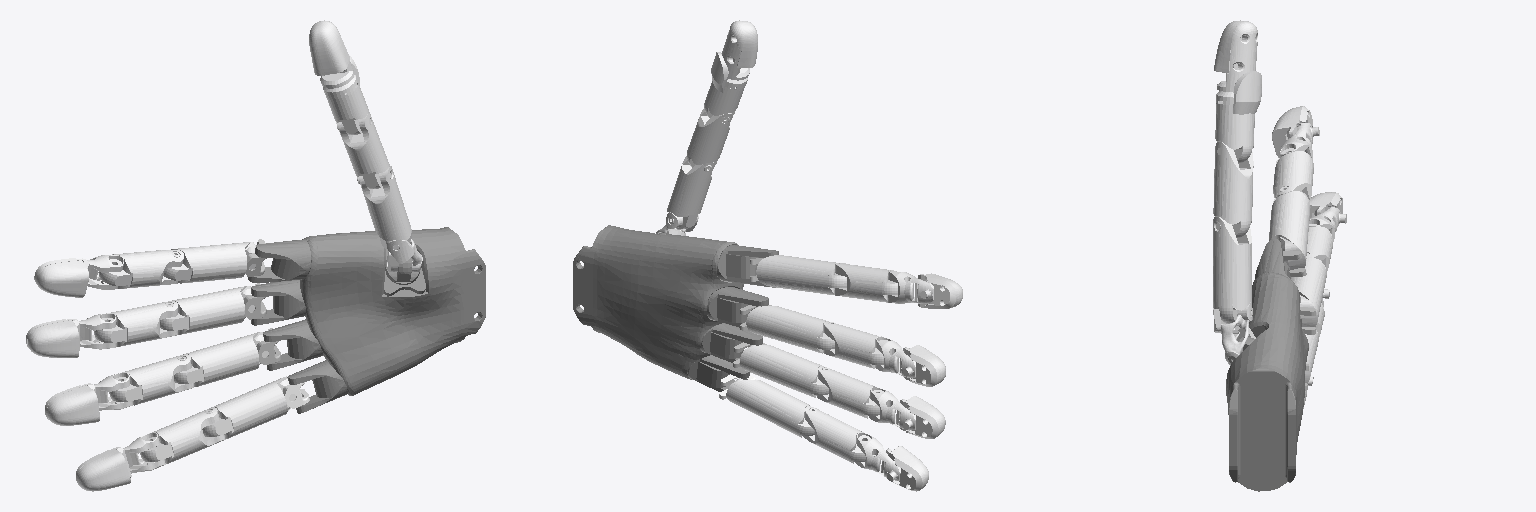
--- What the picture shows (computed from the rendered views, not written in the file) ---
The picture shows the robot from 3 angles, left to right: view 1: azimuth 30°, elevation 25°; view 2: azimuth 150°, elevation 25°; view 3: azimuth 270°, elevation 25°; orthographic projection.
Robot: d5_right_hands_tips — 26 links, 25 joints (20 revolute, 5 fixed); root link base_link; default pose: all joints at 0.
Visible links, largest first — view 1: base_link, PIPMCP_2rd_pinky, PIPMCP_2rd_ring, PIPMCP_2rd_middle, fingertip_thumb, PIPMCP_2rd_index, DIP_pinky, CMC_2rd, DIP_ring, DIP_middle, DIP_index, MCP_thumb (+10 smaller); view 2: base_link, PIPMCP_2rd_pinky, PIPMCP_2rd_ring, PIPMCP_2rd_index, PIPMCP_2rd_middle, fingertip_thumb, tipmount_ring, tipmount_index, CMC_2rd, DIP_pinky, tipmount_pinky, DIP_ring (+5 smaller); view 3: base_link, fingertip_thumb, CMC_2rd, MCP_thumb, PIPMCP_2rd_index, IP_thumb, DIP_index, PIPMCP_2rd_middle, CMC_joint, tipmount_index, tipmount_middle, DIP_middle (+1 smaller).
Boxes of the visible links, x1,y1,x2,y2 form: base_link: (248,227,485,413); PIPMCP_2rd_pinky: (202,376,295,438); PIPMCP_2rd_ring: (174,332,268,386); PIPMCP_2rd_middle: (160,286,254,334); fingertip_thumb: (309,20,359,98); PIPMCP_2rd_index: (163,242,255,283); DIP_pinky: (140,407,225,463); CMC_2rd: (358,166,411,249); DIP_ring: (109,354,193,405); DIP_middle: (94,301,177,346); DIP_index: (98,250,183,288); MCP_thumb: (336,112,390,188); base_link: (573,225,778,391); PIPMCP_2rd_pinky: (726,378,814,437); PIPMCP_2rd_ring: (740,345,828,397); PIPMCP_2rd_index: (756,255,846,294); PIPMCP_2rd_middle: (746,306,834,353); fingertip_thumb: (711,20,757,92); tipmount_ring: (869,387,940,438); tipmount_index: (888,270,958,308); CMC_2rd: (667,156,714,228); DIP_pinky: (803,406,865,463); tipmount_pinky: (855,432,924,491); DIP_ring: (817,366,879,418); base_link: (1226,239,1308,491); fingertip_thumb: (1214,20,1261,114); CMC_2rd: (1213,217,1252,323); MCP_thumb: (1213,142,1253,238); PIPMCP_2rd_index: (1269,191,1310,269); IP_thumb: (1215,102,1254,163); DIP_index: (1273,151,1313,200); PIPMCP_2rd_middle: (1289,258,1326,326); CMC_joint: (1213,302,1255,365); tipmount_index: (1279,106,1319,159); tipmount_middle: (1309,192,1346,241); DIP_middle: (1306,226,1332,270).
Bounding box of the posed robot: 0.205 × 0.0518 × 0.2039 m (x, y, z).
Meshes: 26 distinct files referenced, 26 mesh visuals loaded (26 binary STL).

The robot description file, URDF, robot "d5_right_hands_tips":
<?xml version="1.0" encoding="utf-8"?>
<!-- This URDF was automatically created by SolidWorks to URDF Exporter! Originally created by Stephen Brawner ([email redacted]) 
     Commit Version: 1.6.0-4-g7f85cfe  Build Version: 1.6.7995.38578
     For more information, please see http://wiki.ros.org/sw_urdf_exporter -->
<robot
  name="d5_right_hands_tips">
  <link
    name="base_link">
    <inertial>
      <origin
        xyz="-0.0362817338745931 0.00305496700238872 0.00012652308364822"
        rpy="0 0 0" />
      <mass
        value="0.100729456637226" />
      <inertia
        ixx="3.4903252403848E-05"
        ixy="3.96057729338568E-06"
        ixz="3.90665622578165E-06"
        iyy="8.05762092877759E-05"
        iyz="-1.48869914829573E-06"
        izz="5.43177642836552E-05" />
    </inertial>
    <visual>
      <origin
        xyz="0 0 0"
        rpy="0 0 0" />
      <geometry>
        <mesh
          filename="meshes/base_link.STL" />
      </geometry>
      <material
        name="">
        <color
          rgba="0.627450980392157 0.627450980392157 0.627450980392157 1" />
      </material>
    </visual>
    <collision>
      <origin
        xyz="0 0 0"
        rpy="0 0 0" />
      <geometry>
        <mesh
          filename="meshes/base_link.STL" />
      </geometry>
    </collision>
  </link>
  <link
    name="CMC_joint">
    <inertial>
      <origin
        xyz="-0.00771367823748027 0.00183231505544754 -0.00219639202089756"
        rpy="0 0 0" />
      <mass
        value="0.00125785735605691" />
      <inertia
        ixx="3.83658914941671E-08"
        ixy="2.36460489065714E-09"
        ixz="-1.03477166087723E-08"
        iyy="6.98856638200257E-08"
        iyz="4.39609465963975E-09"
        izz="6.35623703634476E-08" />
    </inertial>
    <visual>
      <origin
        xyz="0 0 0"
        rpy="0 0 0" />
      <geometry>
        <mesh
          filename="meshes/CMC_joint.STL" />
      </geometry>
      <material
        name="">
        <color
          rgba="0.96078431372549 0.96078431372549 0.964705882352941 1" />
      </material>
    </visual>
    <collision>
      <origin
        xyz="0 0 0"
        rpy="0 0 0" />
      <geometry>
        <mesh
          filename="meshes/CMC_joint.STL" />
      </geometry>
    </collision>
  </link>
  <joint
    name="F1J1"
    type="revolute">
    <origin
      xyz="-0.0287119473549832 -0.00852444239874984 0.0205754013367985"
      rpy="1.6609493542778 0.89646815577158 1.20388201170241" />
    <parent
      link="base_link" />
    <child
      link="CMC_joint" />
    <axis
      xyz="0 0 -1" />
    <limit
      lower="-1.83"
      upper="1"
      effort="1000"
      velocity="1000" />
  </joint>
  <link
    name="CMC_2rd">
    <inertial>
      <origin
        xyz="-0.0134830077074653 0.000922867497252785 0.00666084414044431"
        rpy="0 0 0" />
      <mass
        value="0.00526815598427129" />
      <inertia
        ixx="1.98041865895015E-07"
        ixy="-2.04696420847067E-09"
        ixz="1.36339106542372E-07"
        iyy="5.57505650011452E-07"
        iyz="5.09367453567155E-09"
        izz="4.90755198783683E-07" />
    </inertial>
    <visual>
      <origin
        xyz="0 0 0"
        rpy="0 0 0" />
      <geometry>
        <mesh
          filename="meshes/CMC_2rd.STL" />
      </geometry>
      <material
        name="">
        <color
          rgba="0.96078431372549 0.96078431372549 0.964705882352941 1" />
      </material>
    </visual>
    <collision>
      <origin
        xyz="0 0 0"
        rpy="0 0 0" />
      <geometry>
        <mesh
          filename="meshes/CMC_2rd.STL" />
      </geometry>
    </collision>
  </link>
  <joint
    name="F1J2"
    type="revolute">
    <origin
      xyz="-0.0145598308576187 0.00383358648575016 -0.00576550871894678"
      rpy="-0.0914928971126661 -0.705739837158521 -0.493269803017064" />
    <parent
      link="CMC_joint" />
    <child
      link="CMC_2rd" />
    <axis
      xyz="0 1 0" />
    <limit
      lower="-0.47"
      upper="1.73"
      effort="1000"
      velocity="1000" />
  </joint>
  <link
    name="MCP_thumb">
    <inertial>
      <origin
        xyz="-0.0127840160194441 0.00137060752652221 -1.60835271583726E-05"
        rpy="0 0 0" />
      <mass
        value="0.00451776533982589" />
      <inertia
        ixx="1.22993633397689E-07"
        ixy="-9.34843505762833E-10"
        ixz="3.60535709302834E-10"
        iyy="3.89429239539063E-07"
        iyz="-1.24481110371496E-11"
        izz="3.80198753757361E-07" />
    </inertial>
    <visual>
      <origin
        xyz="0 0 0"
        rpy="0 0 0" />
      <geometry>
        <mesh
          filename="meshes/MCP_thumb.STL" />
      </geometry>
      <material
        name="">
        <color
          rgba="0.96078431372549 0.96078431372549 0.964705882352941 1" />
      </material>
    </visual>
    <collision>
      <origin
        xyz="0 0 0"
        rpy="0 0 0" />
      <geometry>
        <mesh
          filename="meshes/MCP_thumb.STL" />
      </geometry>
    </collision>
  </link>
  <joint
    name="F1J3"
    type="revolute">
    <origin
      xyz="-0.030766 -5.5784E-05 0.012586"
      rpy="0.33819 0.32765 7.0074E-05" />
    <parent
      link="CMC_2rd" />
    <child
      link="MCP_thumb" />
    <axis
      xyz="0 0 -1" />
    <limit
      lower="-1.83"
      upper="0.52"
      effort="1000"
      velocity="1000" />
  </joint>
  <link
    name="IP_thumb">
    <inertial>
      <origin
        xyz="-0.0087334 0.0011845 0.00023663"
        rpy="0 0 0" />
      <mass
        value="0.0032446" />
      <inertia
        ixx="8.4532E-08"
        ixy="-2.2214E-09"
        ixz="3.7893E-10"
        iyy="1.5393E-07"
        iyz="-5.1545E-11"
        izz="1.5756E-07" />
    </inertial>
    <visual>
      <origin
        xyz="0 0 0"
        rpy="0 0 0" />
      <geometry>
        <mesh
          filename="meshes/IP_thumb.STL" />
      </geometry>
      <material
        name="">
        <color
          rgba="0.96078 0.96078 0.96471 1" />
      </material>
    </visual>
    <collision>
      <origin
        xyz="0 0 0"
        rpy="0 0 0" />
      <geometry>
        <mesh
          filename="meshes/IP_thumb.STL" />
      </geometry>
    </collision>
  </link>
  <joint
    name="F1J4"
    type="revolute">
    <origin
      xyz="-0.0289946553564469 0.000556723643987157 -0.000250000742295356"
      rpy="0 0 -0.0191986217719369" />
    <parent
      link="MCP_thumb" />
    <child
      link="IP_thumb" />
    <axis
      xyz="0 0 -1" />
    <limit
      lower="-1.74"
      upper="0.61"
      effort="1000"
      velocity="1000" />
  </joint>
  <link
    name="fingertip_thumb">
    <inertial>
      <origin
        xyz="0.0066049 0.00028788 1.5879E-06"
        rpy="0 0 0" />
      <mass
        value="0.0014852" />
      <inertia
        ixx="3.7035E-08"
        ixy="1.4632E-09"
        ixz="-1.0485E-12"
        iyy="2.9544E-08"
        iyz="-1.5545E-12"
        izz="2.9178E-08" />
    </inertial>
    <visual>
      <origin
        xyz="0 0 0"
        rpy="0 0 0" />
      <geometry>
        <mesh
          filename="meshes/Thumb_fingertip.STL" />
      </geometry>
      <material
        name="">
        <color
          rgba="0.96078 0.96078 0.96471 1" />
      </material>
    </visual>
    <collision>
      <origin
        xyz="0 0 0"
        rpy="0 0 0" />
      <geometry>
        <mesh
          filename="meshes/Thumb_fingertip.STL" />
      </geometry>
    </collision>
  </link>
  <joint
    name="thumb_fingertip_fixed"
    type="fixed">
    <origin
      xyz="-0.0504300002212205 0.00512000183074177 0.000250000081465665"
      rpy="0 3.141592 1.578" />
    <parent
      link="IP_thumb" />
    <child
      link="fingertip_thumb" />
    <axis
      xyz="0 0 0" />
  </joint>
  <link
    name="MCP_joint_index">
    <inertial>
      <origin
        xyz="-0.000319915345639632 0.0013292473539805 -6.02704366969853E-09"
        rpy="0 0 0" />
      <mass
        value="0.000379035353628356" />
      <inertia
        ixx="9.06832631392797E-09"
        ixy="-2.97882532906538E-09"
        ixz="4.85702461963548E-14"
        iyy="9.76761312855595E-09"
        iyz="3.96398496940897E-14"
        izz="8.49904595332904E-09" />
    </inertial>
    <visual>
      <origin
        xyz="0 0 0"
        rpy="0 0 0" />
      <geometry>
        <mesh
          filename="meshes/MCP_joint_index.STL" />
      </geometry>
      <material
        name="">
        <color
          rgba="0.796078431372549 0.796078431372549 0.796078431372549 1" />
      </material>
    </visual>
    <collision>
      <origin
        xyz="0 0 0"
        rpy="0 0 0" />
      <geometry>
        <mesh
          filename="meshes/MCP_joint_index.STL" />
      </geometry>
    </collision>
  </link>
  <joint
    name="F2J1"
    type="revolute">
    <origin
      xyz="-0.0919165306699503 0.00587008921482919 0.0294338632809185"
      rpy="0.219360935022254 0.123470682741789 -0.0454105657545556" />
    <parent
      link="base_link" />
    <child
      link="MCP_joint_index" />
    <axis
      xyz="0 0 1" />
    <limit
      lower="-0.52"
      upper="1.83"
      effort="1000"
      velocity="1000" />
  </joint>
  <link
    name="PIPMCP_2rd_index">
    <inertial>
      <origin
        xyz="-0.0174056343115065 0.00607488397988235 7.02482116618497E-06"
        rpy="0 0 0" />
      <mass
        value="0.00657987209047657" />
      <inertia
        ixx="1.7465205113407E-07"
        ixy="-3.15693138574795E-08"
        ixz="2.88424518328892E-10"
        iyy="9.45057722967349E-07"
        iyz="1.65534905120413E-11"
        izz="9.50286012403269E-07" />
    </inertial>
    <visual>
      <origin
        xyz="0 0 0"
        rpy="0 0 0" />
      <geometry>
        <mesh
          filename="meshes/PIPMCP_2rd_index.STL" />
      </geometry>
      <material
        name="">
        <color
          rgba="0.96078431372549 0.96078431372549 0.964705882352941 1" />
      </material>
    </visual>
    <collision>
      <origin
        xyz="0 0 0"
        rpy="0 0 0" />
      <geometry>
        <mesh
          filename="meshes/PIPMCP_2rd_index.STL" />
      </geometry>
    </collision>
  </link>
  <joint
    name="F2J2"
    type="revolute">
    <origin
      xyz="-0.00400000572579078 -0.00220000016539656 0"
      rpy="0 0 0" />
    <parent
      link="MCP_joint_index" />
    <child
      link="PIPMCP_2rd_index" />
    <axis
      xyz="0 -1 0" />
    <limit
      lower="-0.52"
      upper="0.52"
      effort="1000"
      velocity="1000" />
  </joint>
  <link
    name="DIP_index">
    <inertial>
      <origin
        xyz="-0.015509 0.0011228 4.7032E-06"
        rpy="0 0 0" />
      <mass
        value="0.0045089" />
      <inertia
        ixx="1.2298E-07"
        ixy="9.5176E-09"
        ixz="-3.4196E-10"
        iyy="3.9711E-07"
        iyz="4.8839E-12"
        izz="3.8791E-07" />
    </inertial>
    <visual>
      <origin
        xyz="0 0 0"
        rpy="0 0 0" />
      <geometry>
        <mesh
          filename="meshes/DIP_index.STL" />
      </geometry>
      <material
        name="">
        <color
          rgba="0.96078 0.96078 0.96471 1" />
      </material>
    </visual>
    <collision>
      <origin
        xyz="0 0 0"
        rpy="0 0 0" />
      <geometry>
        <mesh
          filename="meshes/DIP_index.STL" />
      </geometry>
    </collision>
  </link>
  <joint
    name="F2J3"
    type="revolute">
    <origin
      xyz="-0.0366176824738114 0.00460000000550533 1.55808514892761E-05"
      rpy="0 0.000433200557103518 0" />
    <parent
      link="PIPMCP_2rd_index" />
    <child
      link="DIP_index" />
    <axis
      xyz="0 0 1" />
    <limit
      lower="-0.52"
      upper="1.83"
      effort="1000"
      velocity="1000" />
  </joint>
  <link
    name="tipmount_index">
    <inertial>
      <origin
        xyz="-0.00535172524642188 0.00089436496945188 1.70711126226131E-05"
        rpy="0 0 0" />
      <mass
        value="0.00137453055479477" />
      <inertia
        ixx="4.05616296493333E-08"
        ixy="1.59318598079109E-09"
        ixz="-8.52615637488302E-11"
        iyy="4.97882764363257E-08"
        iyz="-8.94156273384709E-12"
        izz="3.5113134946145E-08" />
    </inertial>
    <visual>
      <origin
        xyz="0 0 0"
        rpy="0 0 1.578" />
      <geometry>
        <mesh
          filename="meshes/index_tipmount.STL" />
      </geometry>
      <material
        name="">
        <color
          rgba="0.96078431372549 0.96078431372549 0.964705882352941 1" />
      </material>
    </visual>
    <collision>
      <origin
        xyz="0 0 0"
        rpy="0 0 1.578" />
      <geometry>
        <mesh
          filename="meshes/index_tipmount.STL" />
      </geometry>
    </collision>
  </link>
  <joint
    name="F2J4"
    type="revolute">
    <origin
      xyz="-0.0290000000150093 0 0"
      rpy="0.000268594994177152 0 0" />
    <parent
      link="DIP_index" />
    <child
      link="tipmount_index" />
    <axis
      xyz="0 0 1" />
    <limit
      lower="-0.52"
      upper="1.74"
      effort="1000"
      velocity="1000" />
  </joint>
  <link
    name="fingertip_index">
    <inertial>
      <origin
        xyz="0.00986632612758262 0.000242707786630898 -4.82080605827828E-06"
        rpy="0 0 0" />
      <mass
        value="0.00199522849792143" />
      <inertia
        ixx="4.72379097011826E-08"
        ixy="2.39112277288104E-09"
        ixz="1.69309900729916E-11"
        iyy="5.39285646069128E-08"
        iyz="7.66841379098212E-13"
        izz="5.31235878371183E-08" />
    </inertial>
    <visual>
      <origin
        xyz="0 0 0"
        rpy="0 0 0" />
      <geometry>
        <mesh
          filename="meshes/index_fingertip.STL" />
      </geometry>
      <material
        name="">
        <color
          rgba="0.96078431372549 0.96078431372549 0.964705882352941 1" />
      </material>
    </visual>
    <collision>
      <origin
        xyz="0 0 0"
        rpy="0 0 0" />
      <geometry>
        <mesh
          filename="meshes/index_fingertip.STL" />
      </geometry>
    </collision>
  </link>
  <joint
    name="index_fingertip_fixed"
    type="fixed">
    <origin
      xyz="-0.0355000010157146 0.00284999545263939 0"
      rpy="0 0 1.5708" />
    <parent
      link="tipmount_index" />
    <child
      link="fingertip_index" />
    <axis
      xyz="0 0 0" />
  </joint>
  <link
    name="MCP_joint_middle">
    <inertial>
      <origin
        xyz="-0.000319986440870293 0.00132924961618549 2.64397394507745E-08"
        rpy="0 0 0" />
      <mass
        value="0.000379026804644953" />
      <inertia
        ixx="9.06823623278671E-09"
        ixy="-2.97885670449321E-09"
        ixz="7.91952968540631E-14"
        iyy="9.76751641414407E-09"
        iyz="4.99563335618183E-14"
        izz="8.49899334520404E-09" />
    </inertial>
    <visual>
      <origin
        xyz="0 0 0"
        rpy="0 0 0" />
      <geometry>
        <mesh
          filename="meshes/MCP_joint_middle.STL" />
      </geometry>
      <material
        name="">
        <color
          rgba="0.796078431372549 0.796078431372549 0.796078431372549 1" />
      </material>
    </visual>
    <collision>
      <origin
        xyz="0 0 0"
        rpy="0 0 0" />
      <geometry>
        <mesh
          filename="meshes/MCP_joint_middle.STL" />
      </geometry>
    </collision>
  </link>
  <joint
    name="F3J1"
    type="revolute">
    <origin
      xyz="-0.0895435117703842 0.0104597238611381 0.00746146014384912"
      rpy="-0.000581649931470466 0 -0.0872664772858757" />
    <parent
      link="base_link" />
    <child
      link="MCP_joint_middle" />
    <axis
      xyz="0 0 1" />
    <limit
      lower="-0.52"
      upper="1.83"
      effort="1000"
      velocity="1000" />
  </joint>
  <link
    name="PIPMCP_2rd_middle">
    <inertial>
      <origin
        xyz="-0.0174056342595395 0.00607488445872796 7.02692052072153E-06"
        rpy="0 0 0" />
      <mass
        value="0.00657987205231713" />
      <inertia
        ixx="1.74652044557727E-07"
        ixy="-3.15693167149104E-08"
        ixz="2.88428960333597E-10"
        iyy="9.45057745600407E-07"
        iyz="1.65899504968349E-11"
        izz="9.50286007732317E-07" />
    </inertial>
    <visual>
      <origin
        xyz="0 0 0"
        rpy="0 0 0" />
      <geometry>
        <mesh
          filename="meshes/PIPMCP_2rd_middle.STL" />
      </geometry>
      <material
        name="">
        <color
          rgba="0.96078431372549 0.96078431372549 0.964705882352941 1" />
      </material>
    </visual>
    <collision>
      <origin
        xyz="0 0 0"
        rpy="0 0 0" />
      <geometry>
        <mesh
          filename="meshes/PIPMCP_2rd_middle.STL" />
      </geometry>
    </collision>
  </link>
  <joint
    name="F3J2"
    type="revolute">
    <origin
      xyz="-0.00400000560823693 -0.00220000049330705 0"
      rpy="0 0 0" />
    <parent
      link="MCP_joint_middle" />
    <child
      link="PIPMCP_2rd_middle" />
    <axis
      xyz="0 -1 0" />
    <limit
      lower="-0.52"
      upper="0.52"
      effort="1000"
      velocity="1000" />
  </joint>
  <link
    name="DIP_middle">
    <inertial>
      <origin
        xyz="-0.0155093917108602 0.0011227921077806 4.7178197170256E-06"
        rpy="0 0 0" />
      <mass
        value="0.00450884845157686" />
      <inertia
        ixx="1.22978069443671E-07"
        ixy="9.51784776119409E-09"
        ixz="-3.4206580561171E-10"
        iyy="3.97108495741243E-07"
        iyz="5.4409956538135E-12"
        izz="3.87914531389682E-07" />
    </inertial>
    <visual>
      <origin
        xyz="0 0 0"
        rpy="0 0 0" />
      <geometry>
        <mesh
          filename="meshes/DIP_middle.STL" />
      </geometry>
      <material
        name="">
        <color
          rgba="0.96078431372549 0.96078431372549 0.964705882352941 1" />
      </material>
    </visual>
    <collision>
      <origin
        xyz="0 0 0"
        rpy="0 0 0" />
      <geometry>
        <mesh
          filename="meshes/DIP_middle.STL" />
      </geometry>
    </collision>
  </link>
  <joint
    name="F3J3"
    type="revolute">
    <origin
      xyz="-0.0366176824738062 0.00460000000550358 1.55808609508257E-05"
      rpy="0 0.000433200815469852 0" />
    <parent
      link="PIPMCP_2rd_middle" />
    <child
      link="DIP_middle" />
    <axis
      xyz="0 0 1" />
    <limit
      lower="-0.52"
      upper="1.83"
      effort="1000"
      velocity="1000" />
  </joint>
  <link
    name="tipmount_middle">
    <inertial>
      <origin
        xyz="-0.0053517 0.00089435 1.7077E-05"
        rpy="0 0 0" />
      <mass
        value="0.0013745" />
      <inertia
        ixx="4.0562E-08"
        ixy="1.5933E-09"
        ixz="-8.5268E-11"
        iyy="4.9788E-08"
        iyz="-8.7813E-12"
        izz="3.5113E-08" />
    </inertial>
    <visual>
      <origin
        xyz="0 0 0"
        rpy="0 0 1.5708" />
      <geometry>
        <mesh
          filename="meshes/middle_tipmount.STL" />
      </geometry>
      <material
        name="">
        <color
          rgba="0.96078 0.96078 0.96471 1" />
      </material>
    </visual>
    <collision>
      <origin
        xyz="0 0 0"
        rpy="0 0 1.5708" />
      <geometry>
        <mesh
          filename="meshes/middle_tipmount.STL" />
      </geometry>
    </collision>
  </link>
  <joint
    name="F3J4"
    type="revolute">
    <origin
      xyz="-0.02900000001501 0 0"
      rpy="0.000268594994184729 0 0" />
    <parent
      link="DIP_middle" />
    <child
      link="tipmount_middle" />
    <axis
      xyz="0 0 1" />
    <limit
      lower="-0.52"
      upper="1.83"
      effort="1000"
      velocity="1000" />
  </joint>
  <link
    name="fingertip_middle">
    <inertial>
      <origin
        xyz="0.00986638359121364 0.000242762610506316 -4.82391756106981E-06"
        rpy="0 0 0" />
      <mass
        value="0.00199520868827841" />
      <inertia
        ixx="4.72376609188702E-08"
        ixy="2.39144459535487E-09"
        ixz="1.72654134777292E-11"
        iyy="5.39280650546202E-08"
        iyz="9.82832195511379E-13"
        izz="5.31222348014556E-08" />
    </inertial>
    <visual>
      <origin
        xyz="0 0 0"
        rpy="0 0 0" />
      <geometry>
        <mesh
          filename="meshes/middle_fingertip.STL" />
      </geometry>
      <material
        name="">
        <color
          rgba="0.96078431372549 0.96078431372549 0.964705882352941 1" />
      </material>
    </visual>
    <collision>
      <origin
        xyz="0 0 0"
        rpy="0 0 0" />
      <geometry>
        <mesh
          filename="meshes/middle_fingertip.STL" />
      </geometry>
    </collision>
  </link>
  <joint
    name="fingertip_middle_fixed"
    type="fixed">
    <origin
      xyz="-0.0350000010157146 0.00584999545263939 0"
      rpy="0 0 1.5708" />
    <parent
      link="tipmount_middle" />
    <child
      link="fingertip_middle" />
    <axis
      xyz="0 0 0" />
  </joint>
  <link
    name="MCP_joint_ring">
    <inertial>
      <origin
        xyz="-0.00031999918604278 0.00132924338232786 3.2850746424333E-08"
        rpy="0 0 0" />
      <mass
        value="0.000379025355832582" />
      <inertia
        ixx="9.06823252983838E-09"
        ixy="-2.97884887246427E-09"
        ixz="6.65103640804393E-14"
        iyy="9.76748699064776E-09"
        iyz="4.64936659994173E-14"
        izz="8.49897500230578E-09" />
    </inertial>
    <visual>
      <origin
        xyz="0 0 0"
        rpy="0 0 0" />
      <geometry>
        <mesh
          filename="meshes/MCP_joint_ring.STL" />
      </geometry>
      <material
        name="">
        <color
          rgba="0.796078431372549 0.796078431372549 0.796078431372549 1" />
      </material>
    </visual>
    <collision>
      <origin
        xyz="0 0 0"
        rpy="0 0 0" />
      <geometry>
        <mesh
          filename="meshes/MCP_joint_ring.STL" />
      </geometry>
    </collision>
  </link>
  <joint
    name="F4J1"
    type="revolute">
    <origin
      xyz="-0.084429 0.0076649 -0.013712"
      rpy="-0.047172 -0.094201 -0.079087" />
    <parent
      link="base_link" />
    <child
      link="MCP_joint_ring" />
    <axis
      xyz="0 0 1" />
    <limit
      lower="-0.52"
      upper="1.83"
      effort="1000"
      velocity="1000" />
  </joint>
  <link
    name="PIPMCP_2rd_ring">
    <inertial>
      <origin
        xyz="-0.0174056342214865 0.00607488384657669 7.02737726518236E-06"
        rpy="0 0 0" />
      <mass
        value="0.00657987216683894" />
      <inertia
        ixx="1.74652051234683E-07"
        ixy="-3.15693177401151E-08"
        ixz="2.8842952520371E-10"
        iyy="9.45057727225164E-07"
        iyz="1.65999842364779E-11"
        izz="9.50286004918523E-07" />
    </inertial>
    <visual>
      <origin
        xyz="0 0 0"
        rpy="0 0 0" />
      <geometry>
        <mesh
          filename="meshes/PIPMCP_2rd_ring.STL" />
      </geometry>
      <material
        name="">
        <color
          rgba="0.96078431372549 0.96078431372549 0.964705882352941 1" />
      </material>
    </visual>
    <collision>
      <origin
        xyz="0 0 0"
        rpy="0 0 0" />
      <geometry>
        <mesh
          filename="meshes/PIPMCP_2rd_ring.STL" />
      </geometry>
    </collision>
  </link>
  <joint
    name="F4J2"
    type="revolute">
    <origin
      xyz="-0.004 -0.0022 0"
      rpy="0 0 0" />
    <parent
      link="MCP_joint_ring" />
    <child
      link="PIPMCP_2rd_ring" />
    <axis
      xyz="0 -1 0" />
    <limit
      lower="-0.52"
      upper="0.52"
      effort="1000"
      velocity="1000" />
  </joint>
  <link
    name="DIP_ring">
    <inertial>
      <origin
        xyz="-0.0155093918610879 0.00112278782586408 4.73413024819173E-06"
        rpy="0 0 0" />
      <mass
        value="0.00450885216725925" />
      <inertia
        ixx="1.22978124780883E-07"
        ixy="9.51793054890693E-09"
        ixz="-3.42239631462505E-10"
        iyy="3.97108869387128E-07"
        iyz="5.91935003171753E-12"
        izz="3.87914639814856E-07" />
    </inertial>
    <visual>
      <origin
        xyz="0 0 0"
        rpy="0 0 0" />
      <geometry>
        <mesh
          filename="meshes/DIP_ring.STL" />
      </geometry>
      <material
        name="">
        <color
          rgba="0.96078431372549 0.96078431372549 0.964705882352941 1" />
      </material>
    </visual>
    <collision>
      <origin
        xyz="0 0 0"
        rpy="0 0 0" />
      <geometry>
        <mesh
          filename="meshes/DIP_ring.STL" />
      </geometry>
    </collision>
  </link>
  <joint
    name="F4J3"
    type="revolute">
    <origin
      xyz="-0.036618 0.0046 1.5581E-05"
      rpy="0 0.0004332 0" />
    <parent
      link="PIPMCP_2rd_ring" />
    <child
      link="DIP_ring" />
    <axis
      xyz="0 0 1" />
    <limit
      lower="-0.52"
      upper="1.83"
      effort="1000"
      velocity="1000" />
  </joint>
  <link
    name="tipmount_ring">
    <inertial>
      <origin
        xyz="-0.005351729511095 0.000894346509790563 1.7086589808514E-05"
        rpy="0 0 0" />
      <mass
        value="0.00137452817416282" />
      <inertia
        ixx="4.05615773264179E-08"
        ixy="1.59325139312679E-09"
        ixz="-8.52976180898049E-11"
        iyy="4.97881352950525E-08"
        iyz="-8.71857160822335E-12"
        izz="3.51132029919713E-08" />
    </inertial>
    <visual>
      <origin
        xyz="0 0 0"
        rpy="0 0 1.5708" />
      <geometry>
        <mesh
          filename="meshes/ring_tipmount.STL" />
      </geometry>
      <material
        name="">
        <color
          rgba="0.96078431372549 0.96078431372549 0.964705882352941 1" />
      </material>
    </visual>
    <collision>
      <origin
        xyz="0 0 0"
        rpy="0 0 1.5708" />
      <geometry>
        <mesh
          filename="meshes/ring_tipmount.STL" />
      </geometry>
    </collision>
  </link>
  <joint
    name="F4J4"
    type="revolute">
    <origin
      xyz="-0.029 0 0"
      rpy="0.00026859 0 0" />
    <parent
      link="DIP_ring" />
    <child
      link="tipmount_ring" />
    <axis
      xyz="0 0 1" />
    <limit
      lower="-0.52"
      upper="1.83"
      effort="1000"
      velocity="1000" />
  </joint>
  <link
    name="fingertip_ring">
    <inertial>
      <origin
        xyz="0.00986639024726599 0.000252316961107007 1.72931873365992E-06"
        rpy="0 0 0" />
      <mass
        value="0.00199520894508364" />
      <inertia
        ixx="4.72377154106638E-08"
        ixy="2.39155799699115E-09"
        ixz="1.72803398130845E-11"
        iyy="5.3927900693216E-08"
        iyz="7.83709775287707E-13"
        izz="5.31224375663837E-08" />
    </inertial>
    <visual>
      <origin
        xyz="0 0 0"
        rpy="0 0 0" />
      <geometry>
        <mesh
          filename="meshes/ring_fingertip.STL" />
      </geometry>
      <material
        name="">
        <color
          rgba="0.96078431372549 0.96078431372549 0.964705882352941 1" />
      </material>
    </visual>
    <collision>
      <origin
        xyz="0 0 0"
        rpy="0 0 0" />
      <geometry>
        <mesh
          filename="meshes/ring_fingertip.STL" />
      </geometry>
    </collision>
  </link>
  <joint
    name="fingertip_ring_fixed"
    type="fixed">
    <origin
      xyz="-0.0355000010157146 0.00054999545263939 0"
      rpy="0 0 1.5708" />
    <parent
      link="tipmount_ring" />
    <child
      link="fingertip_ring" />
    <axis
      xyz="0 0 0" />
    <limit
      lower="0"
      upper="0"
      effort="0"
      velocity="0" />
  </joint>
  <link
    name="MCP_joint_pinky">
    <inertial>
      <origin
        xyz="0 0 0"
        rpy="0 0 0" />
      <mass
        value="0" />
      <inertia
        ixx="0"
        ixy="0"
        ixz="0"
        iyy="0"
        iyz="0"
        izz="0" />
    </inertial>
    <visual>
      <origin
        xyz="0 0 0"
        rpy="0 0 0" />
      <geometry>
        <mesh
          filename="meshes/MCP_joint_pinky.STL" />
      </geometry>
      <material
        name="">
        <color
          rgba="1 1 1 1" />
      </material>
    </visual>
    <collision>
      <origin
        xyz="0 0 0"
        rpy="0 0 0" />
      <geometry>
        <mesh
          filename="meshes/MCP_joint_pinky.STL" />
      </geometry>
    </collision>
  </link>
  <joint
    name="F5J1"
    type="revolute">
    <origin
      xyz="-0.0742813381427243 0.00226865106058523 -0.0340011106648663"
      rpy="-0.160365374712629 -0.204586980120563 -0.0608219010949235" />
    <parent
      link="base_link" />
    <child
      link="MCP_joint_pinky" />
    <axis
      xyz="0 0 1" />
    <limit
      lower="-0.52"
      upper="1.83"
      effort="1000"
      velocity="1000" />
  </joint>
  <link
    name="PIPMCP_2rd_pinky">
    <inertial>
      <origin
        xyz="-0.0174056341673092 0.00607488611667895 7.02946114356992E-06"
        rpy="0 0 0" />
      <mass
        value="0.00657987169240391" />
      <inertia
        ixx="1.74652025935675E-07"
        ixy="-3.1569308910913E-08"
        ixz="2.88433493885074E-10"
        iyy="9.4505778817037E-07"
        iyz="1.66296742783843E-11"
        izz="9.50285978684713E-07" />
    </inertial>
    <visual>
      <origin
        xyz="0 0 0"
        rpy="0 0 0" />
      <geometry>
        <mesh
          filename="meshes/PIPMCP_2rd_pinky.STL" />
      </geometry>
      <material
        name="">
        <color
          rgba="0.96078431372549 0.96078431372549 0.964705882352941 1" />
      </material>
    </visual>
    <collision>
      <origin
        xyz="0 0 0"
        rpy="0 0 0" />
      <geometry>
        <mesh
          filename="meshes/PIPMCP_2rd_pinky.STL" />
      </geometry>
    </collision>
  </link>
  <joint
    name="F5J2"
    type="revolute">
    <origin
      xyz="-0.0040000052819367 -0.00220000069793736 0"
      rpy="0 0 0" />
    <parent
      link="MCP_joint_pinky" />
    <child
      link="PIPMCP_2rd_pinky" />
    <axis
      xyz="0 -1 0" />
    <limit
      lower="-0.52"
      upper="0.52"
      effort="1000"
      velocity="1000" />
  </joint>
  <link
    name="DIP_pinky">
    <inertial>
      <origin
        xyz="-0.0155093893464535 0.00112278799226154 4.74866655756495E-06"
        rpy="0 0 0" />
      <mass
        value="0.00450885769445445" />
      <inertia
        ixx="1.22978219289757E-07"
        ixy="9.51793774050059E-09"
        ixz="-3.42438036566865E-10"
        iyy="3.97109552000592E-07"
        iyz="6.27165212807384E-12"
        izz="3.87914797407966E-07" />
    </inertial>
    <visual>
      <origin
        xyz="0 0 0"
        rpy="0 0 0" />
      <geometry>
        <mesh
          filename="meshes/DIP_pinky.STL" />
      </geometry>
      <material
        name="">
        <color
          rgba="0.96078431372549 0.96078431372549 0.964705882352941 1" />
      </material>
    </visual>
    <collision>
      <origin
        xyz="0 0 0"
        rpy="0 0 0" />
      <geometry>
        <mesh
          filename="meshes/DIP_pinky.STL" />
      </geometry>
    </collision>
  </link>
  <joint
    name="F5J3"
    type="revolute">
    <origin
      xyz="-0.0366176824738007 0.00460000000550368 1.55808781511432E-05"
      rpy="0 0.00043320128520894 0" />
    <parent
      link="PIPMCP_2rd_pinky" />
    <child
      link="DIP_pinky" />
    <axis
      xyz="0 0 1" />
    <limit
      lower="-0.52"
      upper="1.83"
      effort="1000"
      velocity="1000" />
  </joint>
  <link
    name="tipmount_pinky">
    <inertial>
      <origin
        xyz="-0.00535172413896925 0.000894357087703209 1.70918996228002E-05"
        rpy="0 0 0" />
      <mass
        value="0.00137453094684671" />
      <inertia
        ixx="4.05616278583377E-08"
        ixy="1.59322067531226E-09"
        ixz="-8.53268008082692E-11"
        iyy="4.97883297247661E-08"
        iyz="-8.7378366094725E-12"
        izz="3.51131528512837E-08" />
    </inertial>
    <visual>
      <origin
        xyz="0 0 0"
        rpy="0 0 1.5708" />
      <geometry>
        <mesh
          filename="meshes/pinky_tipmount.STL" />
      </geometry>
      <material
        name="">
        <color
          rgba="0.96078431372549 0.96078431372549 0.964705882352941 1" />
      </material>
    </visual>
    <collision>
      <origin
        xyz="0 0 0"
        rpy="0 0 1.5708" />
      <geometry>
        <mesh
          filename="meshes/pinky_tipmount.STL" />
      </geometry>
    </collision>
  </link>
  <joint
    name="F5J4"
    type="revolute">
    <origin
      xyz="-0.0290000000150085 0 0"
      rpy="0.000268594994171455 0 0" />
    <parent
      link="DIP_pinky" />
    <child
      link="tipmount_pinky" />
    <axis
      xyz="0 0 1" />
    <limit
      lower="-0.52"
      upper="1.83"
      effort="1000"
      velocity="1000" />
  </joint>
  <link
    name="fingertip_pinky">
    <inertial>
      <origin
        xyz="0.00986639457822258 0.000242721364652409 -4.80509298105697E-06"
        rpy="0 0 0" />
      <mass
        value="0.00199521066470033" />
      <inertia
        ixx="4.72378810799744E-08"
        ixy="2.39179163159098E-09"
        ixz="1.71964753948245E-11"
        iyy="5.39277659112841E-08"
        iyz="4.98851207811953E-13"
        izz="5.3122897528373E-08" />
    </inertial>
    <visual>
      <origin
        xyz="0 0 0"
        rpy="0 0 0" />
      <geometry>
        <mesh
          filename="meshes/pinky_fingertip.STL" />
      </geometry>
      <material
        name="">
        <color
          rgba="0.96078431372549 0.96078431372549 0.964705882352941 1" />
      </material>
    </visual>
    <collision>
      <origin
        xyz="0 0 0"
        rpy="0 0 0" />
      <geometry>
        <mesh
          filename="meshes/pinky_fingertip.STL" />
      </geometry>
    </collision>
  </link>
  <joint
    name="fingertip_pinky_fixed"
    type="fixed">
    <origin
      xyz="-0.0355000010157146 0.00284999545263939 0"
      rpy="0 0 1.5708" />
    <parent
      link="tipmount_pinky" />
    <child
      link="fingertip_pinky" />
    <axis
      xyz="0 0 0" />
  </joint>
</robot>
